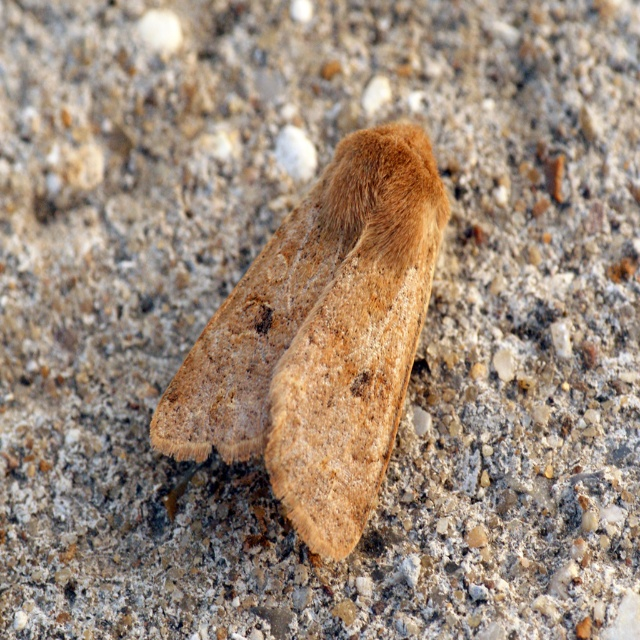Moths and butterflies: (149, 117, 457, 564)
